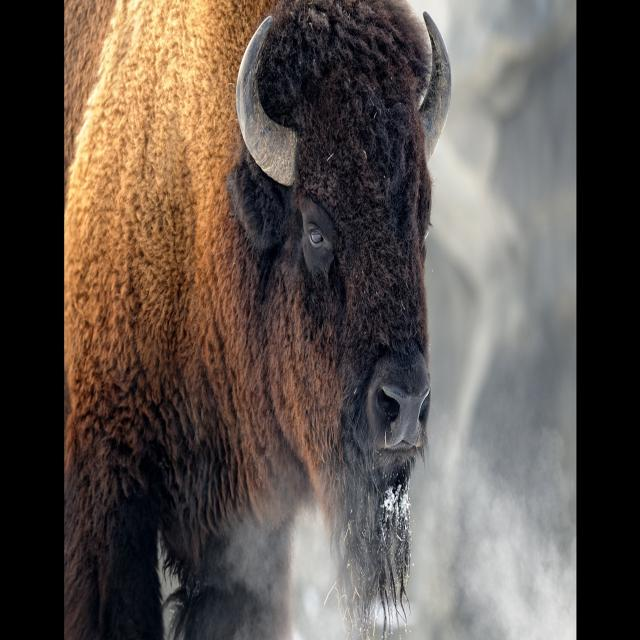Bison: (63, 2, 462, 640)
